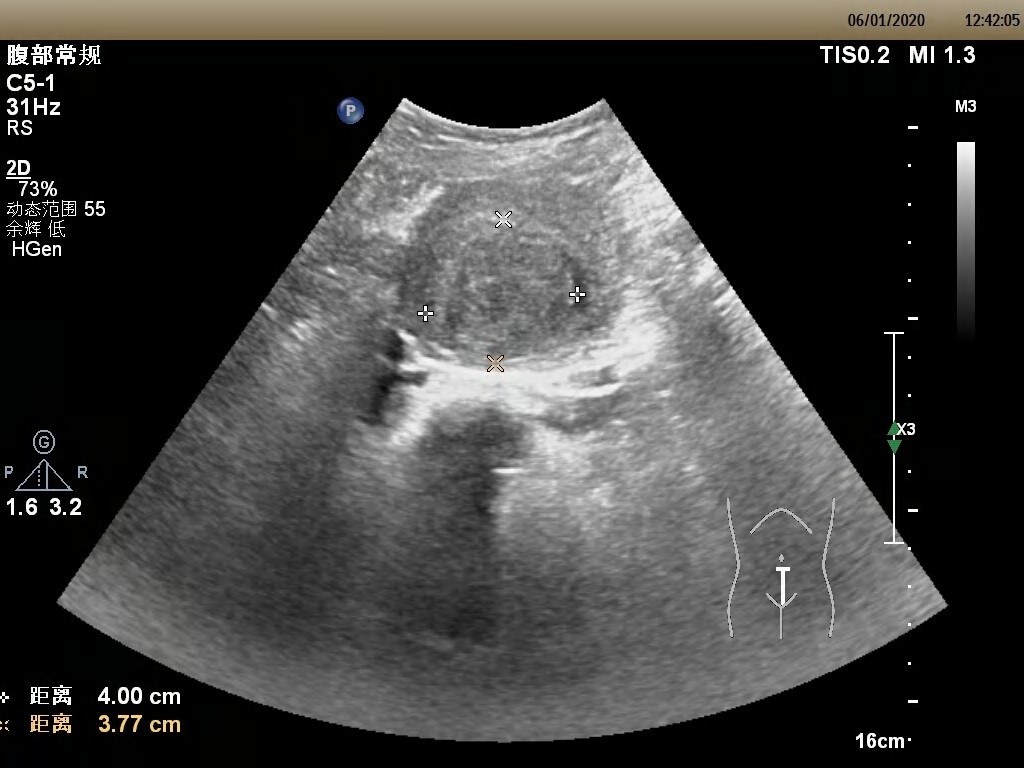肌瘤: (416, 214, 580, 365)
